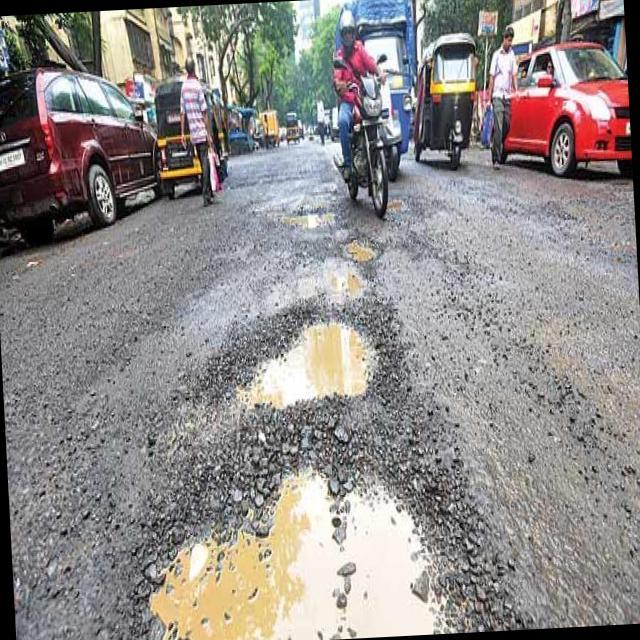Pothole: (150, 467, 441, 640), (239, 321, 374, 410), (309, 259, 366, 301), (282, 213, 330, 228), (347, 242, 373, 260)
